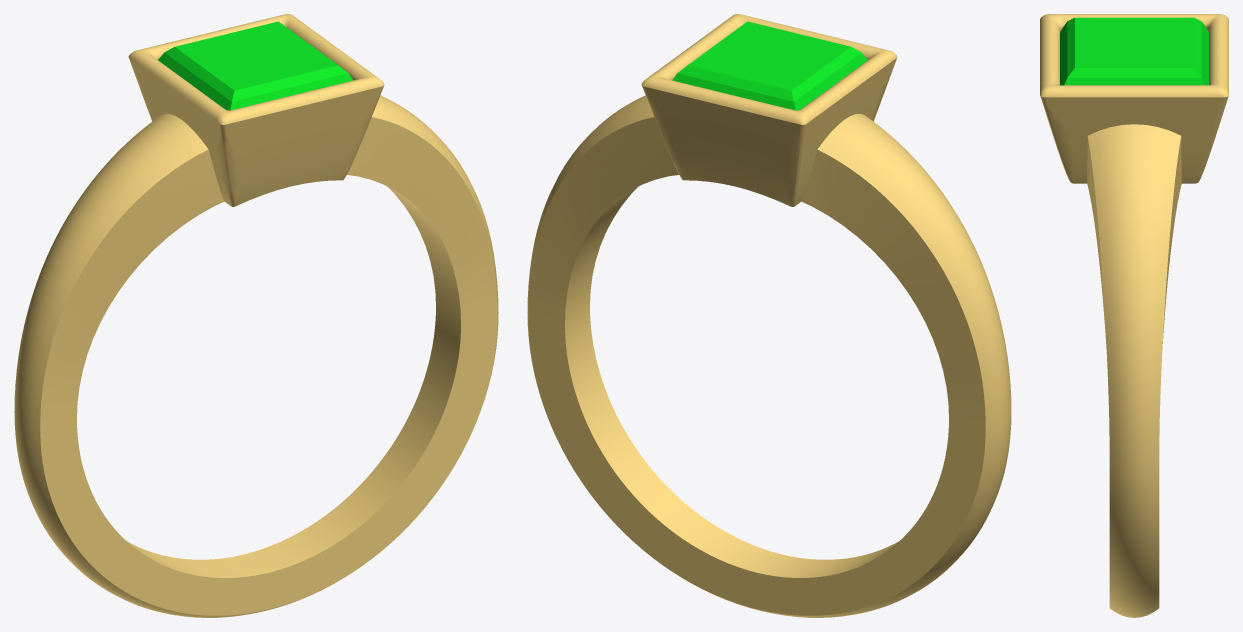
File: ChrisSupdated_blender.glb
3 views of the same model, side by side, from view 1: azimuth 30°, elevation 25°; view 2: azimuth 150°, elevation 25°; view 3: azimuth 270°, elevation 25° (orthographic).
Parts seen in each view (by area): view 1: chris ring YG for 3d model, chris ring emerald for 3d model; view 2: chris ring YG for 3d model, chris ring emerald for 3d model; view 3: chris ring YG for 3d model, chris ring emerald for 3d model.
Boxes of the visible parts, x1,y1,x2,y2 form: chris ring YG for 3d model: (14,14,498,617); chris ring emerald for 3d model: (158,21,353,110); chris ring YG for 3d model: (527,14,1011,617); chris ring emerald for 3d model: (672,21,867,110); chris ring YG for 3d model: (1040,14,1228,617); chris ring emerald for 3d model: (1060,17,1208,85).
Size of the model in its own units: 21.94 by 24.4 by 7.6.
